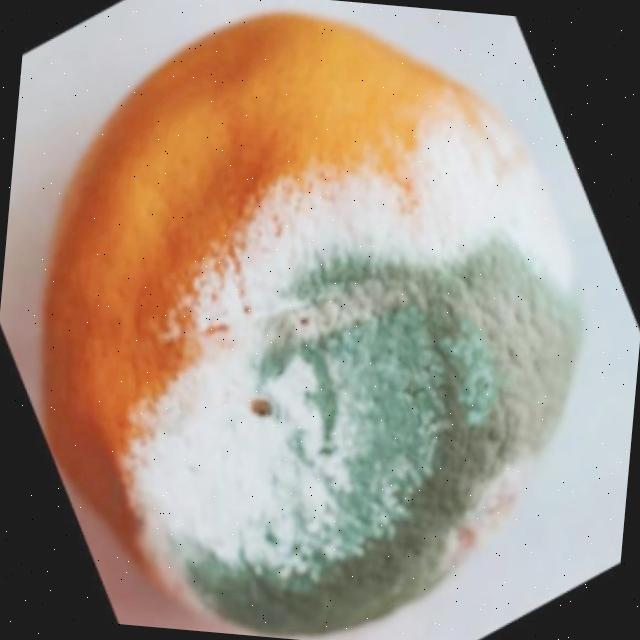rotten orange: (13, 0, 610, 640)
